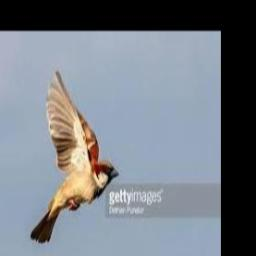Sparrow: (30, 71, 118, 243)
